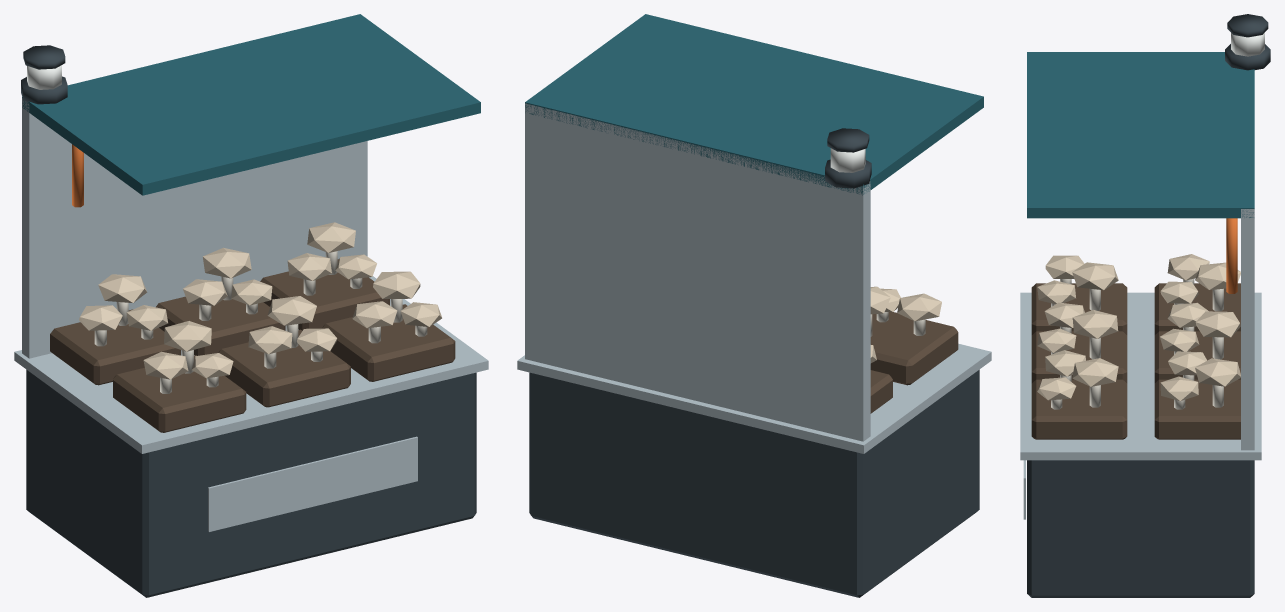
File: mushroomtray.glb
3 renders of one model, left to right at view 1: azimuth 30°, elevation 25°; view 2: azimuth 150°, elevation 25°; view 3: azimuth 270°, elevation 25°, orthographic. The views are drawn at different scales.
Parts seen in each view (by area): view 1: Cabinet, Plants.002, Lamp.002; view 2: Cabinet, Lamp.002, Plants.002; view 3: Cabinet, Plants.002, Lamp.002.
Part boxes in pixels (box(x1,y1,x2,y2)): Cabinet: box(14, 14, 488, 597); Plants.002: box(79, 222, 441, 393); Lamp.002: box(21, 45, 67, 104); Cabinet: box(517, 14, 991, 597); Lamp.002: box(825, 128, 871, 188); Plants.002: box(870, 286, 941, 363); Cabinet: box(1020, 52, 1261, 597); Plants.002: box(1037, 254, 1240, 409); Lamp.002: box(1225, 14, 1270, 70).
Bounding box in the file's own units: 1.66 × 2.09 × 1.1.
